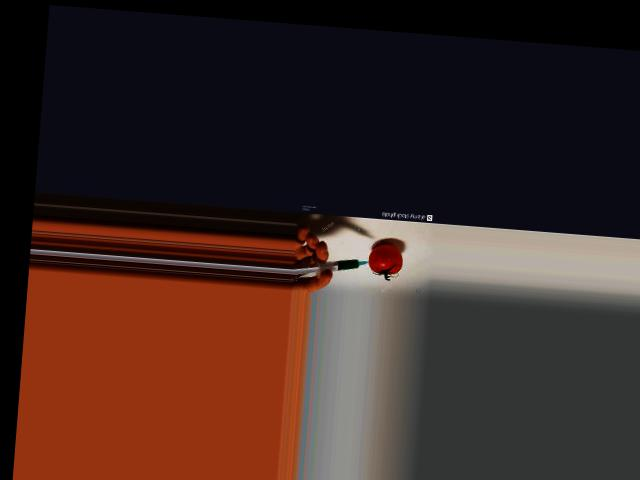tomato: (367, 242, 402, 274)
